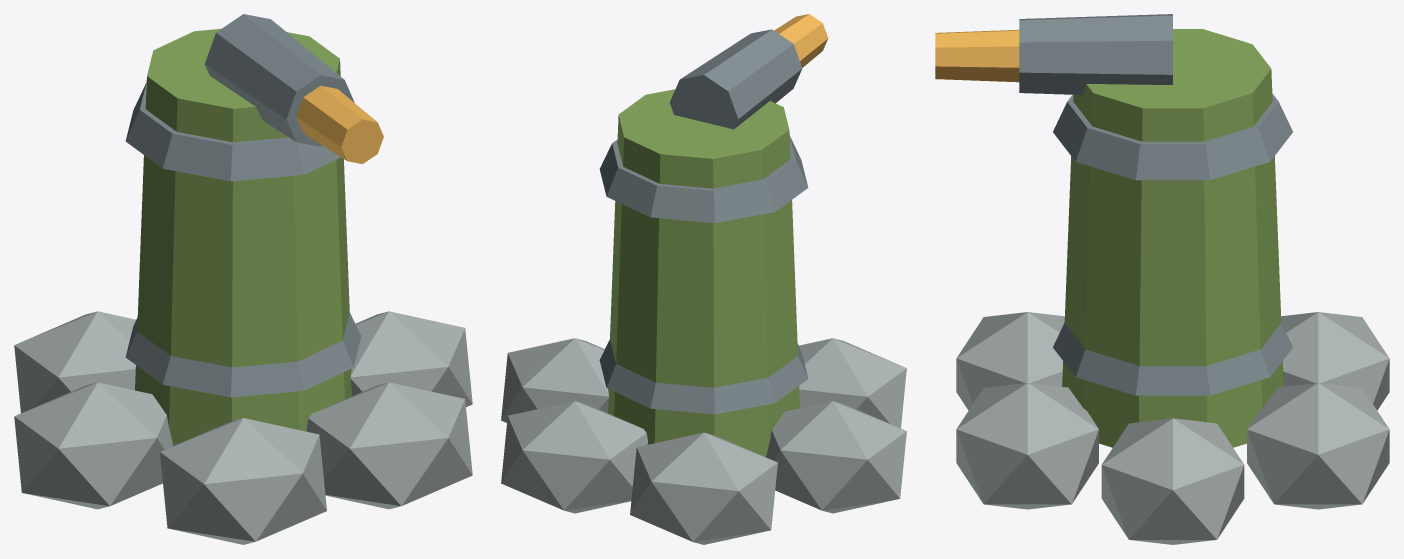
The model's file is CC_AcidTower.fbx.
3 views of the same model, side by side, from view 1: azimuth 30°, elevation 25°; view 2: azimuth 150°, elevation 25°; view 3: azimuth 270°, elevation 25° (orthographic). The views are drawn at different scales.
Parts seen in each view (by area): view 1: Reservoir, Foundation.005, Foundation.006, Foundation.004, Nozzle body, Foundation.003, Foundation.001, Band.003, Band.002, Tip; view 2: Reservoir, Foundation.003, Foundation.002, Foundation.004, Nozzle body, Band.003, Foundation.005, Foundation.001, Band.002, Tip; view 3: Reservoir, Foundation.001, Foundation.002, Foundation.006, Nozzle body, Band.003, Band.002, Foundation.005, Foundation.003, Tip.
Boxes of the visible parts, x1,y1,x2,y2 form: Reservoir: (135, 28, 351, 445); Foundation.005: (160, 418, 326, 544); Foundation.006: (306, 382, 472, 509); Foundation.004: (14, 382, 173, 509); Nozzle body: (204, 14, 354, 146); Foundation.003: (14, 311, 135, 413); Foundation.001: (350, 311, 472, 406); Band.003: (125, 82, 340, 181); Band.002: (125, 312, 361, 397); Tip: (296, 85, 383, 163); Reservoir: (608, 89, 799, 457); Foundation.003: (630, 432, 777, 544); Foundation.002: (501, 401, 647, 513); Foundation.004: (766, 401, 906, 513); Nozzle body: (669, 29, 802, 129); Band.003: (599, 135, 808, 223); Foundation.005: (799, 338, 906, 428); Foundation.001: (501, 338, 608, 422); Band.002: (599, 339, 808, 414); Tip: (774, 14, 828, 67); Reservoir: (1062, 29, 1283, 447); Foundation.001: (1101, 418, 1244, 544); Foundation.002: (1247, 383, 1389, 509); Foundation.006: (956, 383, 1098, 509); Nozzle body: (1019, 14, 1172, 94); Band.003: (1053, 93, 1292, 180); Band.002: (1053, 322, 1292, 395); Foundation.005: (956, 312, 1064, 410); Foundation.003: (1281, 312, 1389, 410); Tip: (935, 29, 1019, 82).
Bounding box in the file's own units: 1.83 × 1.81 × 1.62.
